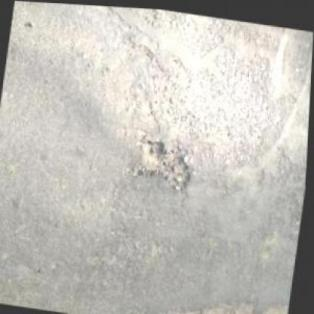Hueco: (137, 132, 199, 189)
